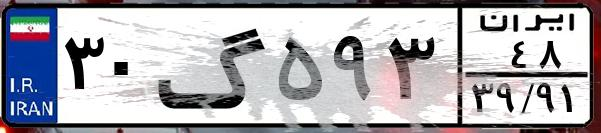0: (110, 28, 156, 98)
1: (560, 70, 590, 125)
3: (385, 28, 445, 110), (57, 26, 110, 100), (470, 70, 495, 125)
4: (508, 27, 537, 80)
5: (270, 28, 330, 110)
8: (537, 27, 568, 80)
9: (330, 28, 385, 110), (495, 70, 520, 125), (535, 70, 560, 125)
گ: (156, 12, 270, 120)
